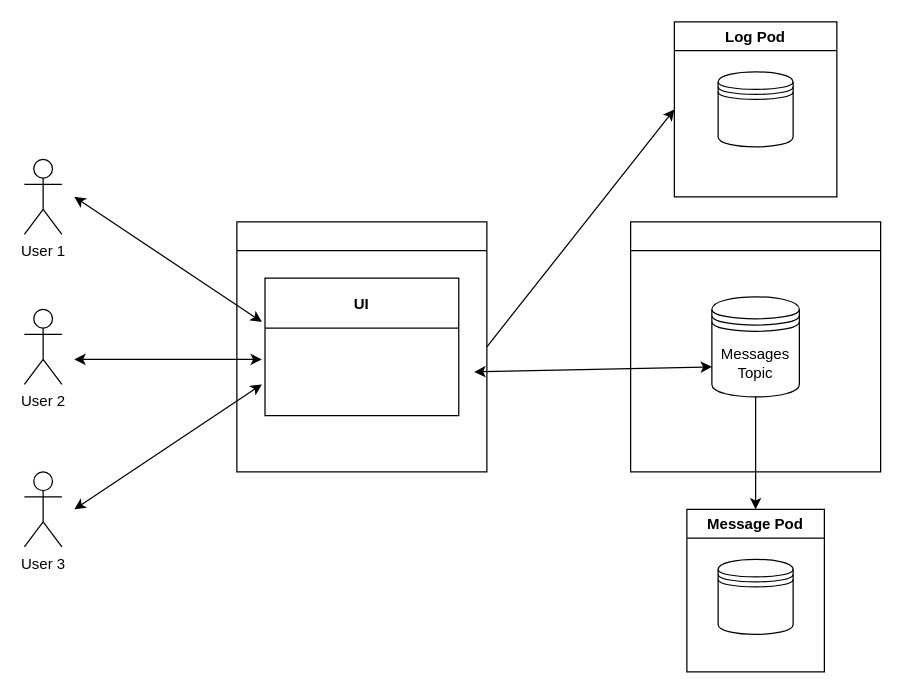
The diagram is 903 pixels wide and 694 high, and some of its shapes have lost their labels. The centre of each missing label's shape, as x and y in pixels:
Log Database: (755,109)
Message DataBase: (755,596)
Topics pod: (755,346)
Web socket Pod: (361,346)
